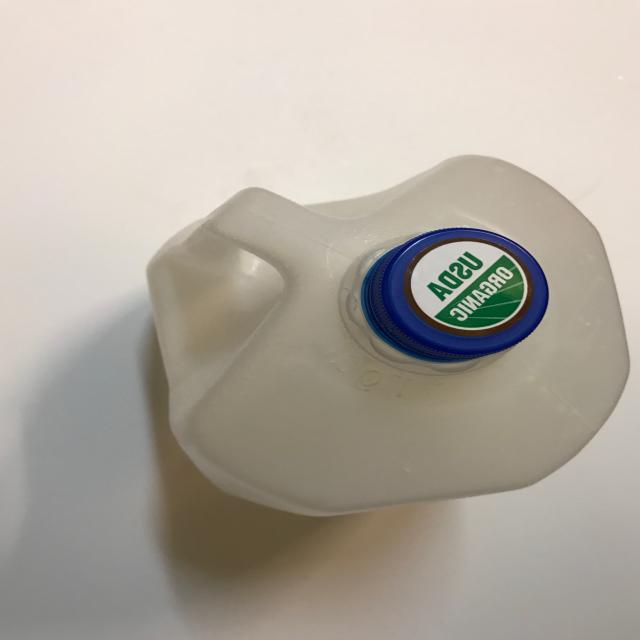plastic: (145, 153, 631, 517)
